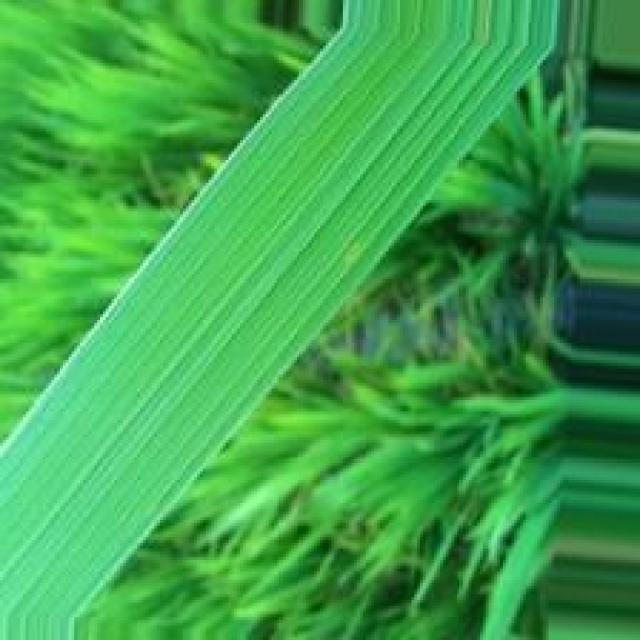HealthyLeaf: (2, 39, 546, 615)
